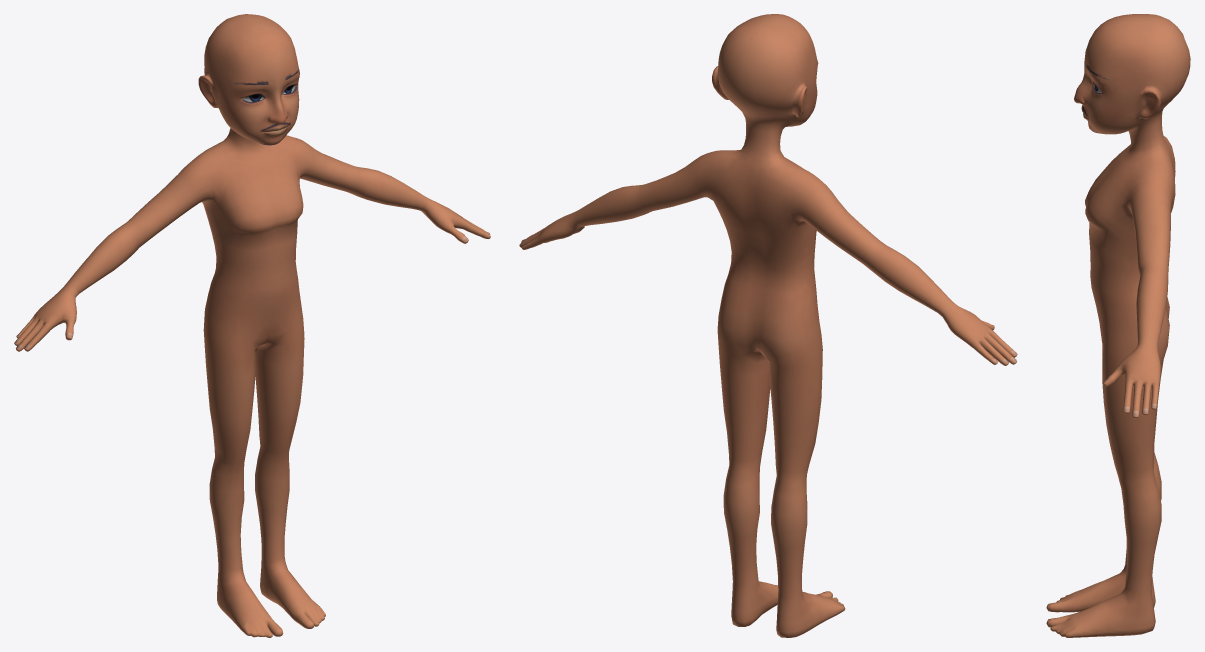
File: frame_0046.glb
3 views of the same model, side by side, from view 1: azimuth 30°, elevation 25°; view 2: azimuth 150°, elevation 25°; view 3: azimuth 270°, elevation 25° (orthographic). The views are drawn at different scales.
Parts seen in each view (by area): view 1: frame_0046_head_geo; view 2: frame_0046_head_geo; view 3: frame_0046_head_geo.
Part boxes in pixels (x1=…): frame_0046_head_geo: x1=14, y1=14, x2=490, y2=637; frame_0046_head_geo: x1=519, y1=14, x2=1017, y2=637; frame_0046_head_geo: x1=1046, y1=14, x2=1190, y2=637.
Size of the model in its own units: 1.28 by 1.5 by 0.3253.
Materials: 3 (3 with a texture image).
